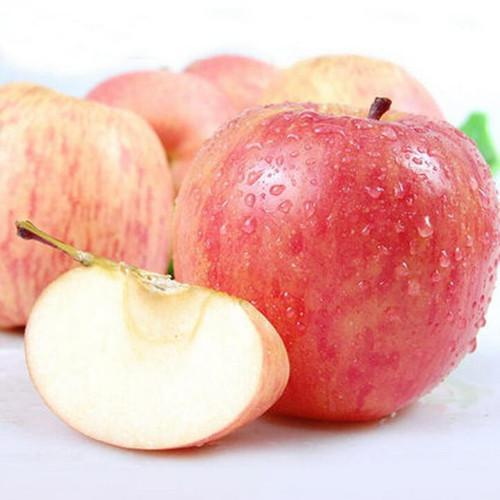apple: (144, 85, 500, 423), (1, 86, 175, 322)
